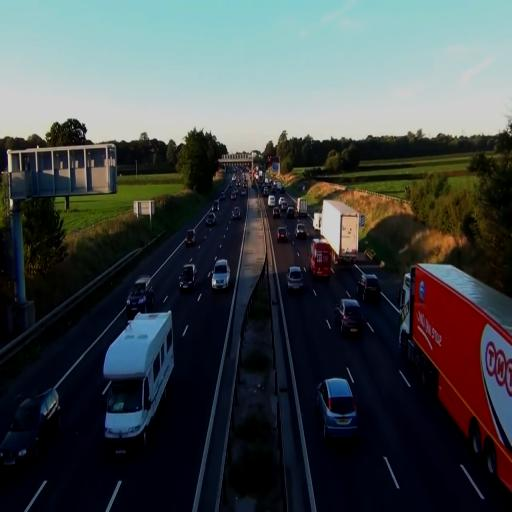vehicle: (398, 260, 512, 497), (101, 308, 175, 460), (0, 388, 62, 472), (316, 375, 358, 442), (320, 198, 360, 266), (334, 296, 364, 336), (310, 240, 333, 281), (355, 269, 381, 304), (211, 258, 231, 290), (126, 290, 148, 319), (360, 273, 381, 303), (178, 262, 197, 292), (288, 264, 304, 294), (295, 219, 309, 240), (277, 226, 288, 244), (186, 231, 194, 246)
